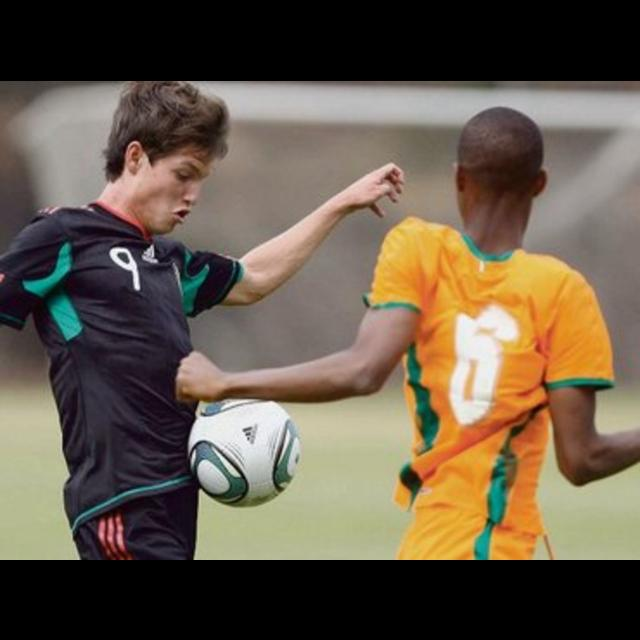Football: (182, 392, 302, 506)
